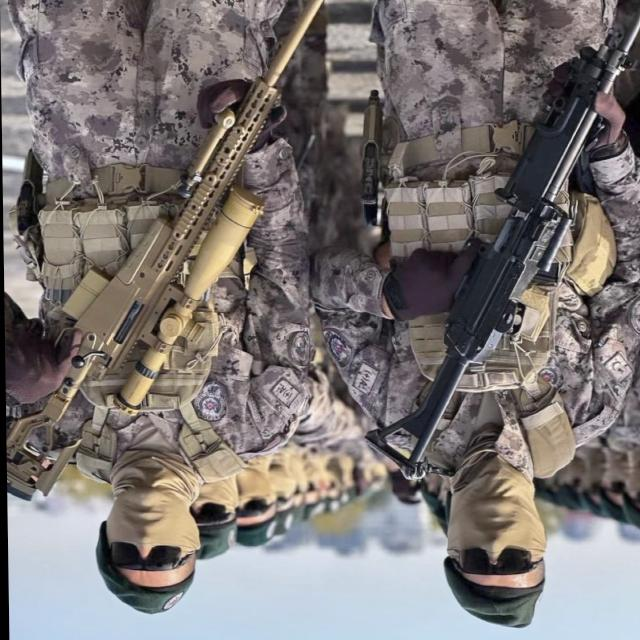poh_personel: (306, 0, 640, 630), (0, 0, 318, 617)
